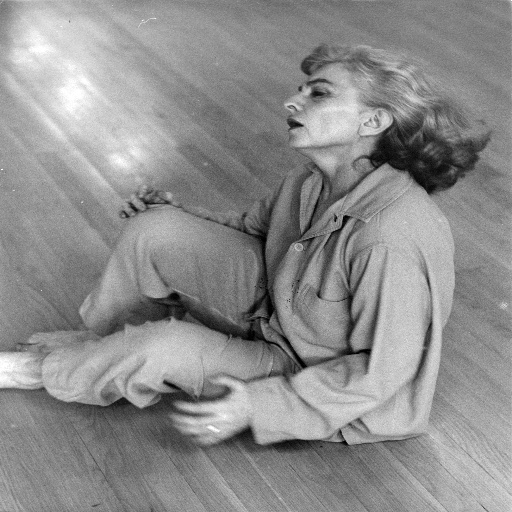hand: (161, 374, 266, 446), (118, 183, 177, 218)
